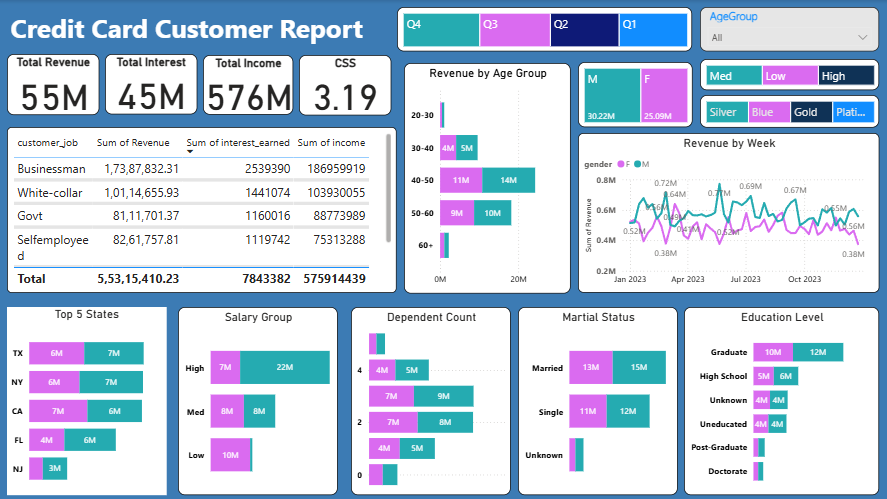

What the dashboard file says about the page in this screenshot:
{"tool":"powerbi","page":{"name":"CC Customer ","canvas":[1280,720],"ordinal":0},"visuals":[{"type":"textbox","box":[12.1,9.7,552.5,63.9],"z":0},{"type":"barChart","title":"Top 5 States","fields":{"Category":["public cust_detail.state_cd"],"Y":["Sum(public cc_detail.Revenue)"],"Series":["public cust_detail.gender"]},"box":[12.1,441.6,230,271.4],"z":1000},{"type":"tableEx","fields":{"Values":["public cust_detail.customer_job","Sum(public cc_detail.Revenue)","Sum(public cc_detail.interest_earned)","Sum(public cust_detail.income)"]},"box":[12.1,183.4,561,238.9],"z":2000},{"type":"card","title":"Total Revenue","fields":{"Values":["Sum(public cc_detail.Revenue)"]},"box":[12.1,78.4,132.7,88.1],"z":3000},{"type":"card","title":"Total Interest","fields":{"Values":["Sum(public cc_detail.total_trans_amt)"]},"box":[152,78.4,132.7,86.9],"z":4000},{"type":"card","title":"Total Income","fields":{"Values":["Sum(public cust_detail.income)"]},"box":[293.2,79.6,130.3,85.7],"z":5000},{"type":"card","title":"CSS","fields":{"Values":["Avg(public cust_detail.cust_satisfaction_score)"]},"box":[431.9,79.6,132.7,86.9],"z":6000},{"type":"slicer","fields":{"Values":["public cust_detail.AgeGroup"]},"box":[1009.8,9.7,258.2,63.9],"z":7000},{"type":"treemap","fields":{"Group":["public cc_detail.qtr"],"Values":["Avg(public cc_detail.client_num)"]},"box":[573.6,9.6,425.4,64.5],"z":8000},{"type":"treemap","fields":{"Values":["Avg(public cc_detail.client_num)"],"Group":["public cc_detail.card_category"]},"box":[1009.8,136.3,258.2,47.1],"z":9000},{"type":"treemap","fields":{"Group":["public cust_detail.gender"],"Values":["Sum(public cc_detail.Revenue)"]},"box":[833.7,89.3,165.3,94.1],"z":10000},{"type":"treemap","fields":{"Values":["Avg(public cc_detail.client_num)"],"Group":["public cust_detail.IncomeGroup"]},"box":[1009.8,85.7,258.2,44.6],"z":11000},{"type":"lineChart","title":" Revenue by  Week","fields":{"Category":["public cc_detail.week_start_date.Variation.Date Hierarchy.Year","public cc_detail.week_start_date.Variation.Date Hierarchy.Month","public cc_detail.week_start_date.Variation.Date Hierarchy.Day"],"Y":["Sum(public cc_detail.Revenue)"],"Series":["public cust_detail.gender"]},"box":[833.7,191.8,434.3,230.4],"z":12000},{"type":"barChart","title":"Revenue by Age Group","fields":{"Category":["public cust_detail.AgeGroup"],"Y":["Sum(public cc_detail.Revenue)"],"Series":["public cust_detail.gender"]},"box":[582.7,90.5,240.1,331.8],"z":13000},{"type":"barChart","title":"Martial Status","fields":{"Y":["Sum(public cc_detail.Revenue)"],"Category":["public cust_detail.marital_status"],"Series":["public cust_detail.gender"]},"box":[746.8,441.6,230,271.4],"z":14000},{"type":"barChart","title":"Salary Group","fields":{"Y":["Sum(public cc_detail.Revenue)"],"Category":["public cust_detail.IncomeGroup"],"Series":["public cust_detail.gender"]},"box":[258.2,441.6,230,271.4],"z":15000},{"type":"barChart","title":"Dependent Count","fields":{"Category":["public cust_detail.dependent_count"],"Y":["Sum(public cc_detail.Revenue)"],"Series":["public cust_detail.gender"]},"box":[506.7,441.6,230,271.4],"z":16000},{"type":"barChart","title":"Education Level","fields":{"Y":["Sum(public cc_detail.Revenue)"],"Series":["public cust_detail.gender"],"Category":["public cust_detail.education_level"]},"box":[986.9,441.6,281.1,271.4],"z":17000}]}

Visuals, with their boxes in screenshot pixels (x1, y1, x2, y2), scaled from the page's 1280x720 canvas onto the 887x499 screenshot:
textbox: (8, 7, 391, 51)
"Top 5 States" barChart: (8, 306, 168, 494)
tableEx - public cust_detail.customer_job x Sum(public cc_detail.Revenue): (8, 127, 397, 293)
"Total Revenue" card: (8, 54, 100, 115)
"Total Interest" card: (105, 54, 197, 115)
"Total Income" card: (203, 55, 293, 115)
"CSS" card: (299, 55, 391, 115)
slicer - public cust_detail.AgeGroup: (700, 7, 879, 51)
treemap - public cc_detail.qtr x Avg(public cc_detail.client_num): (397, 7, 692, 51)
treemap - Avg(public cc_detail.client_num) x public cc_detail.card_category: (700, 94, 879, 127)
treemap - public cust_detail.gender x Sum(public cc_detail.Revenue): (578, 62, 692, 127)
treemap - Avg(public cc_detail.client_num) x public cust_detail.IncomeGroup: (700, 59, 879, 90)
" Revenue by  Week" lineChart: (578, 133, 879, 293)
"Revenue by Age Group" barChart: (404, 63, 570, 293)
"Martial Status" barChart: (518, 306, 677, 494)
"Salary Group" barChart: (179, 306, 338, 494)
"Dependent Count" barChart: (351, 306, 511, 494)
"Education Level" barChart: (684, 306, 879, 494)
